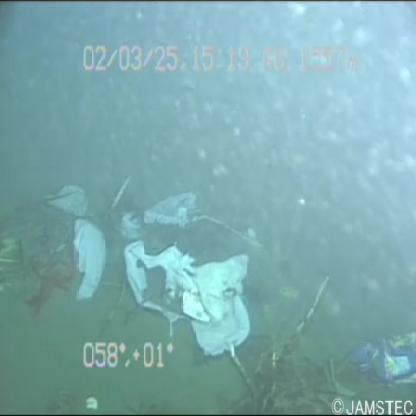Rác: (112, 231, 256, 359), (38, 192, 115, 308)
